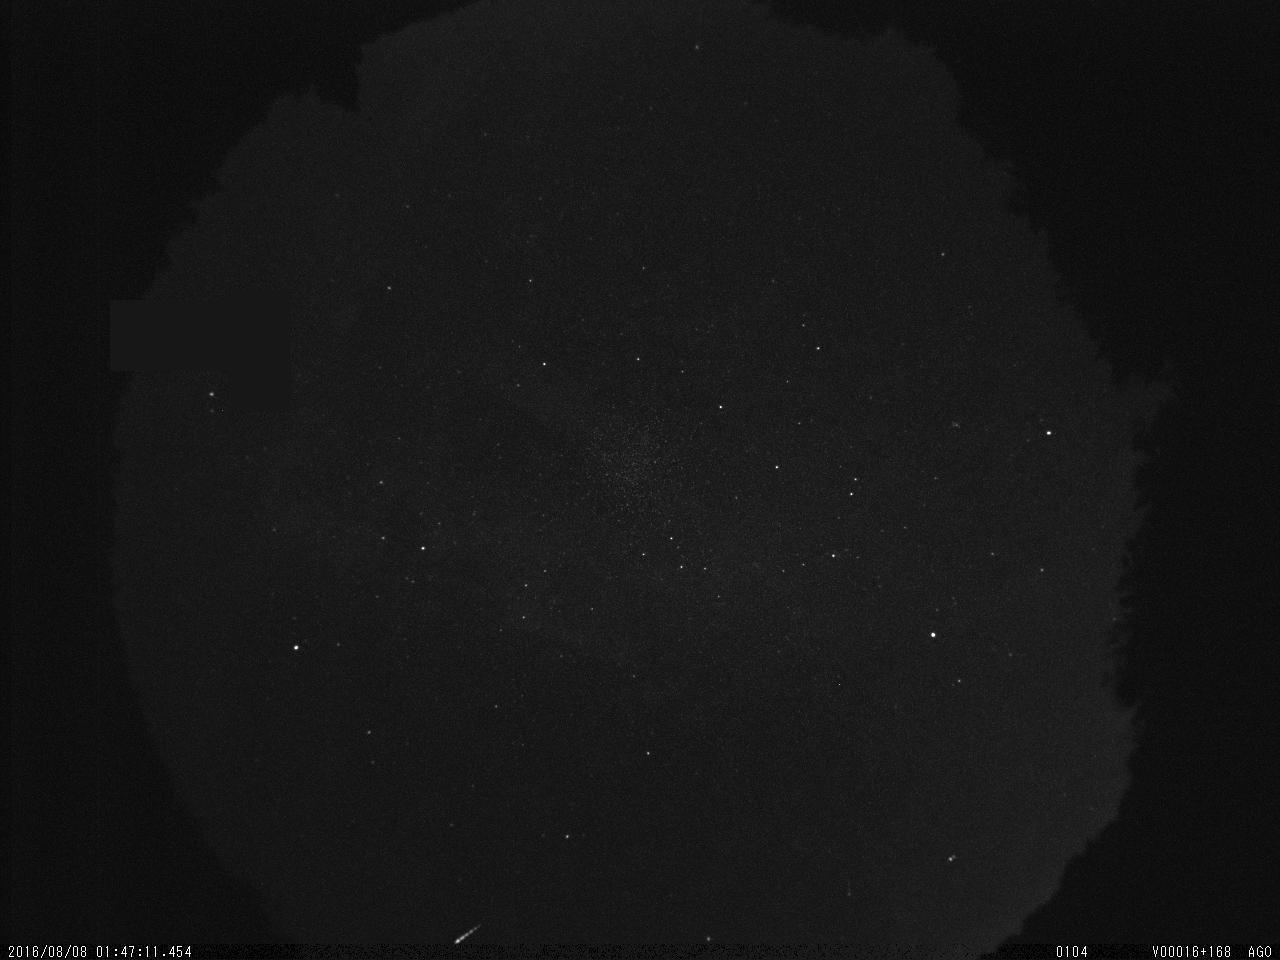meteor: (444, 914, 498, 948)
